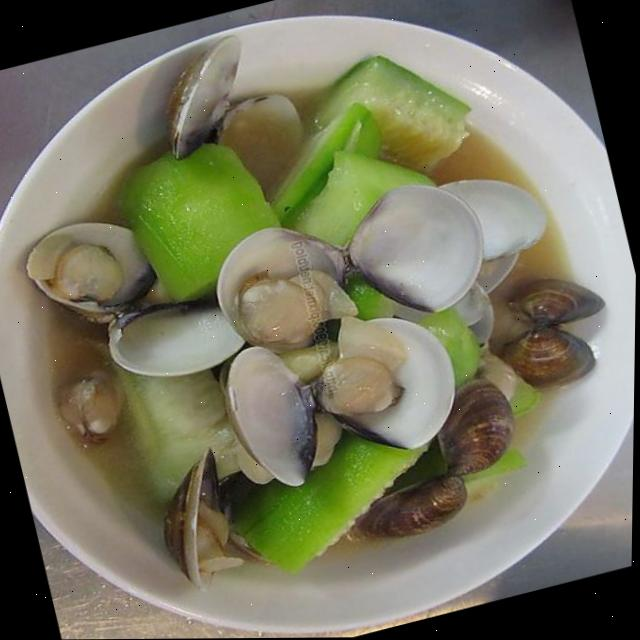Wet: (4, 9, 627, 609)
